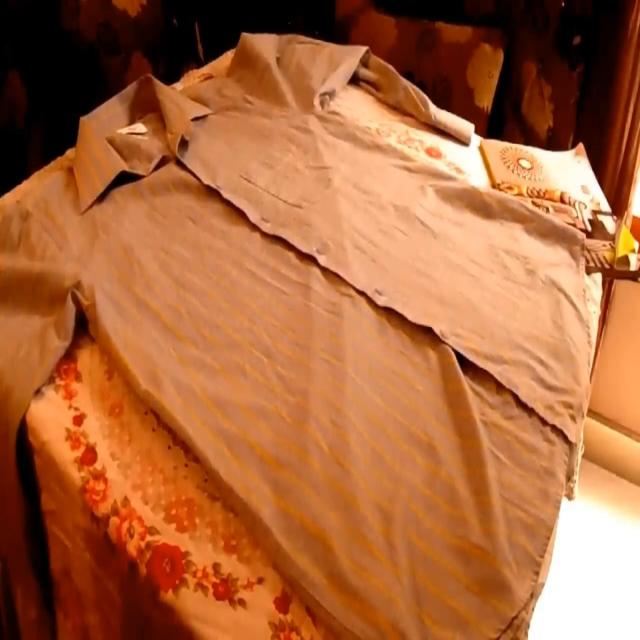shirt: (0, 30, 592, 640)
